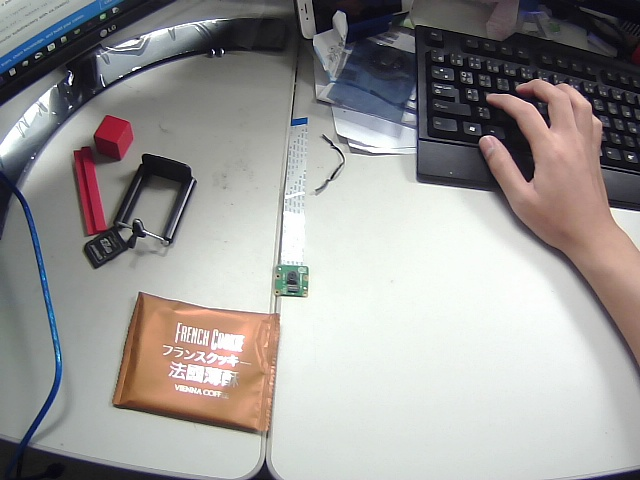frenchcookie: (108, 288, 307, 449)
